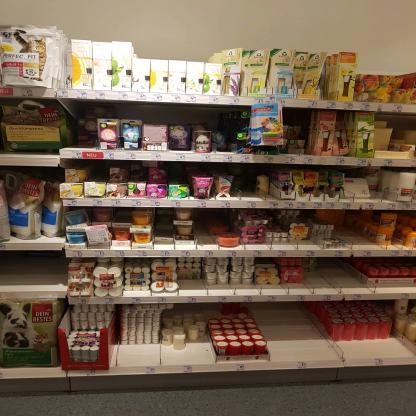Void: (265, 303, 327, 358), (2, 253, 62, 288), (148, 106, 219, 124), (322, 258, 354, 284), (74, 104, 94, 144), (347, 341, 403, 354), (344, 214, 364, 247), (120, 348, 153, 363), (199, 212, 213, 245), (240, 170, 256, 196), (168, 350, 206, 360), (158, 211, 174, 233), (115, 208, 133, 223), (130, 161, 144, 178), (90, 161, 103, 177), (172, 166, 184, 182), (218, 213, 230, 223)
